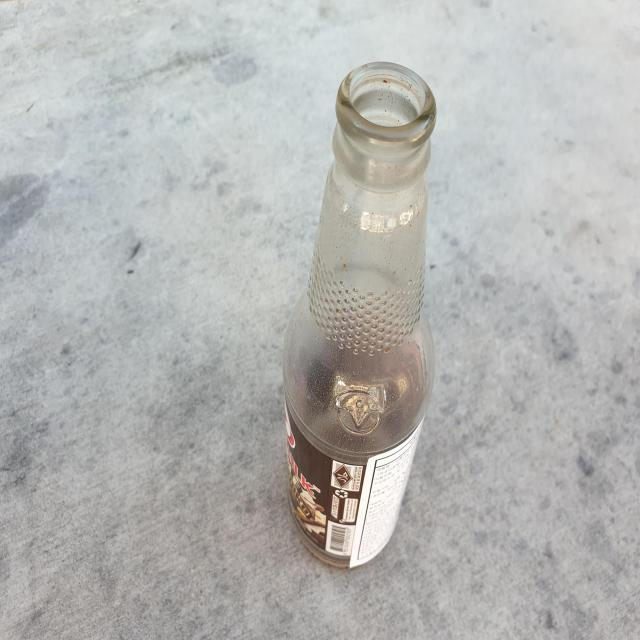glass: (283, 62, 436, 568)
